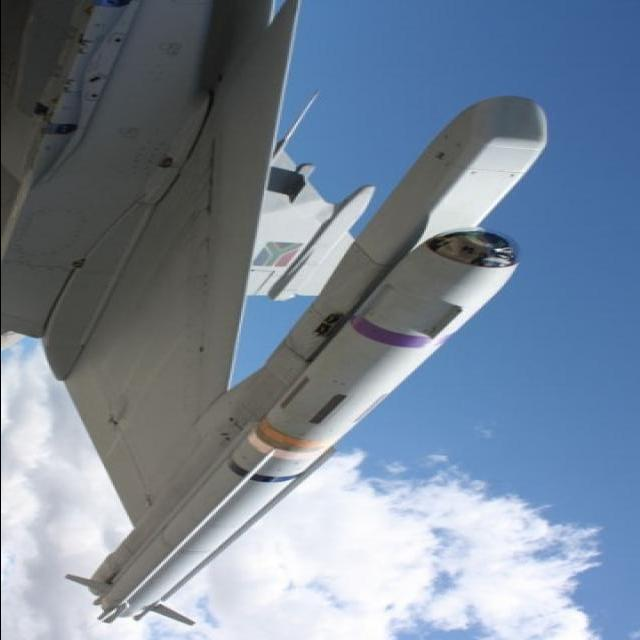missile: (81, 228, 524, 621)
